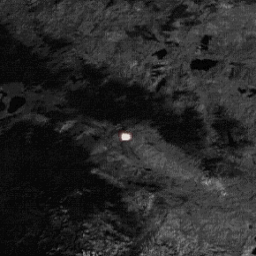Target: (119, 131, 133, 142)
